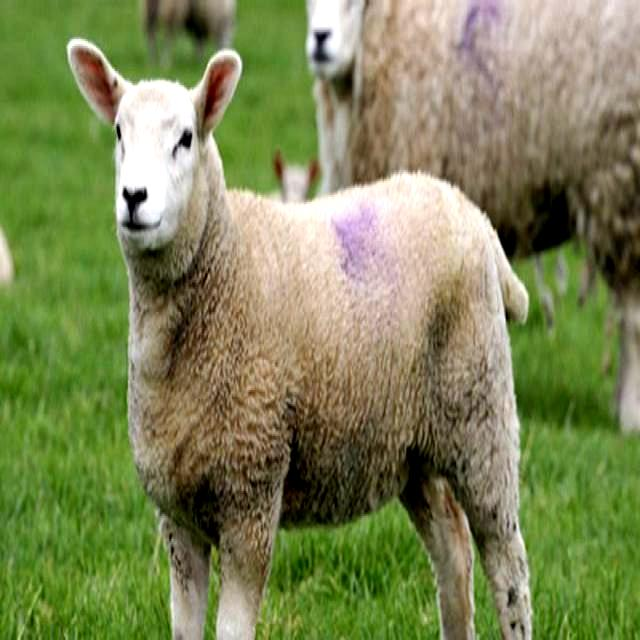sheep: (69, 44, 532, 640)
